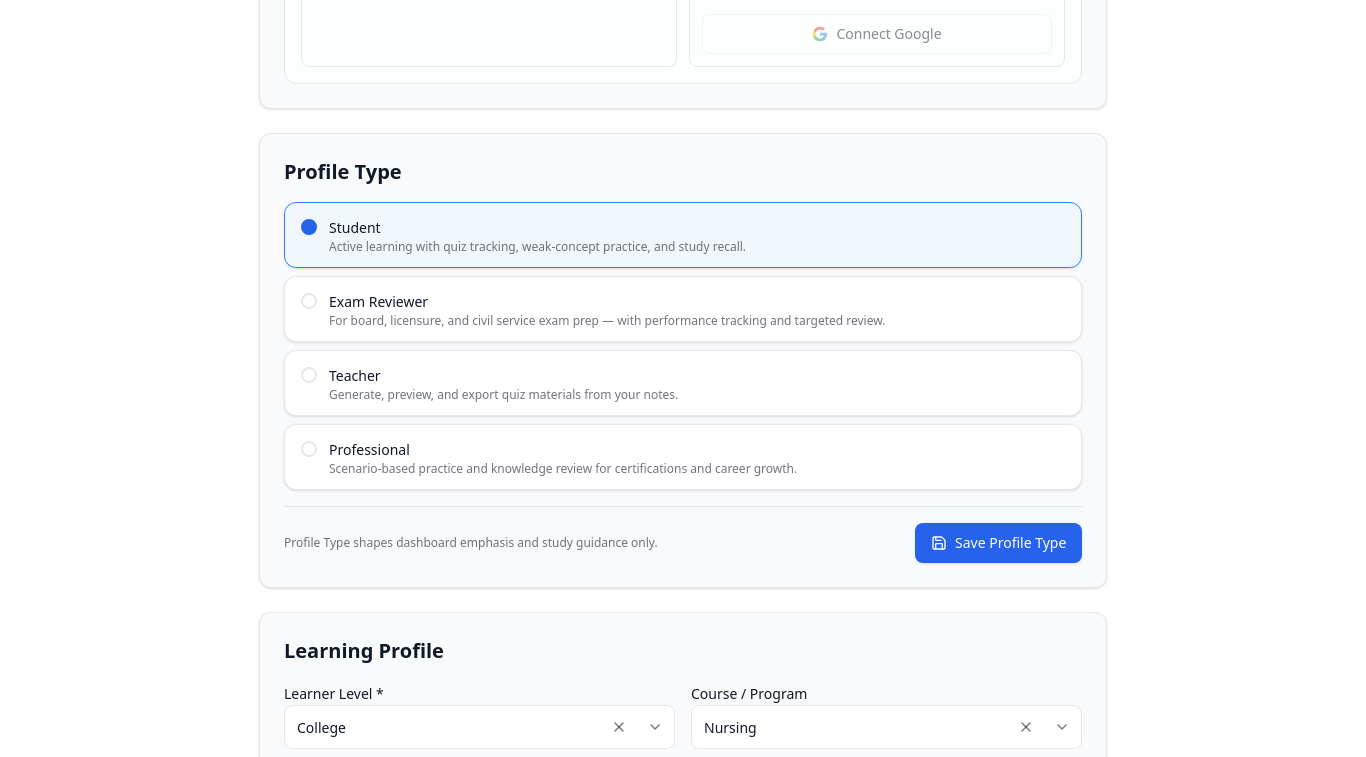
Profile page › saves profile type separately from identity fields
(page scrolled)
Click the button "Teacher Generate, preview, and export quiz materials from your notes.". click: (355, 376)
box: [284,350,1082,416]
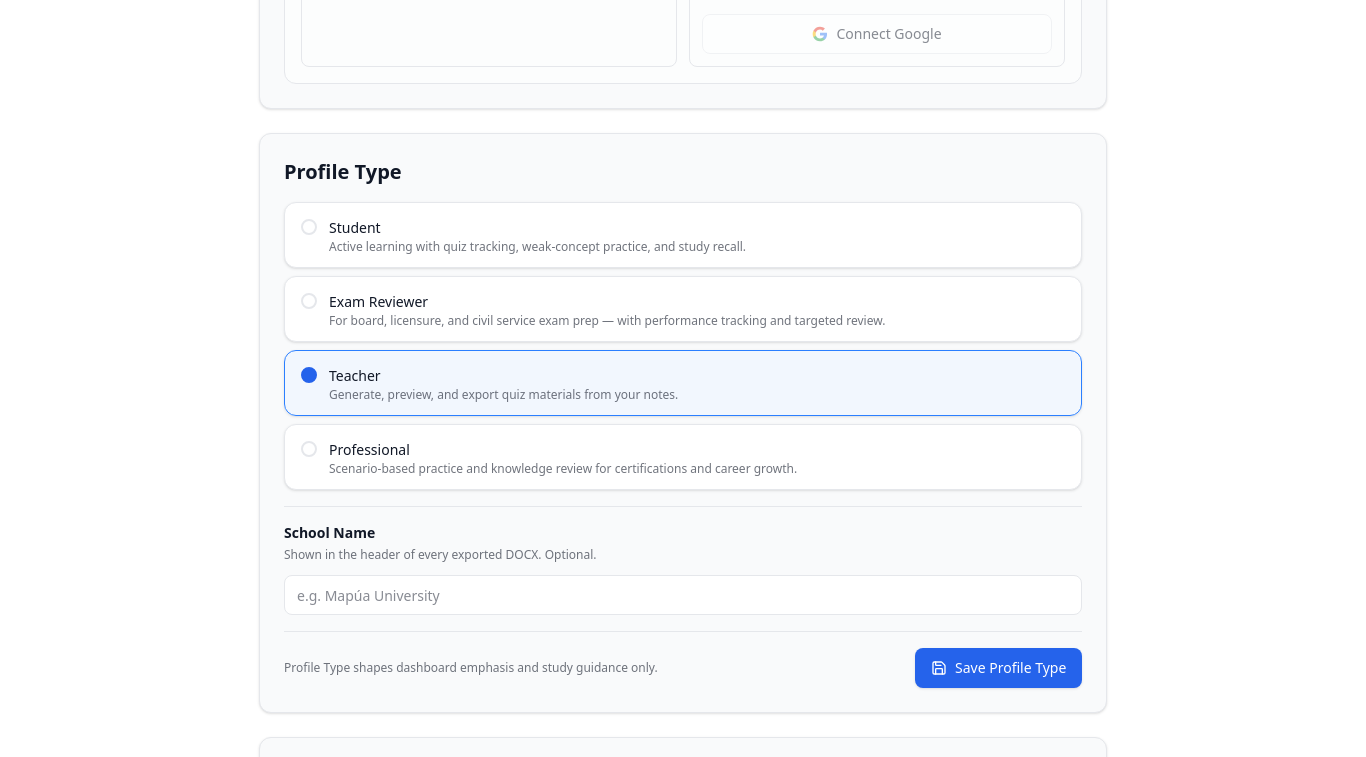
Click the button "Save Profile Type". click: (998, 668)
box: [915,648,1082,688]
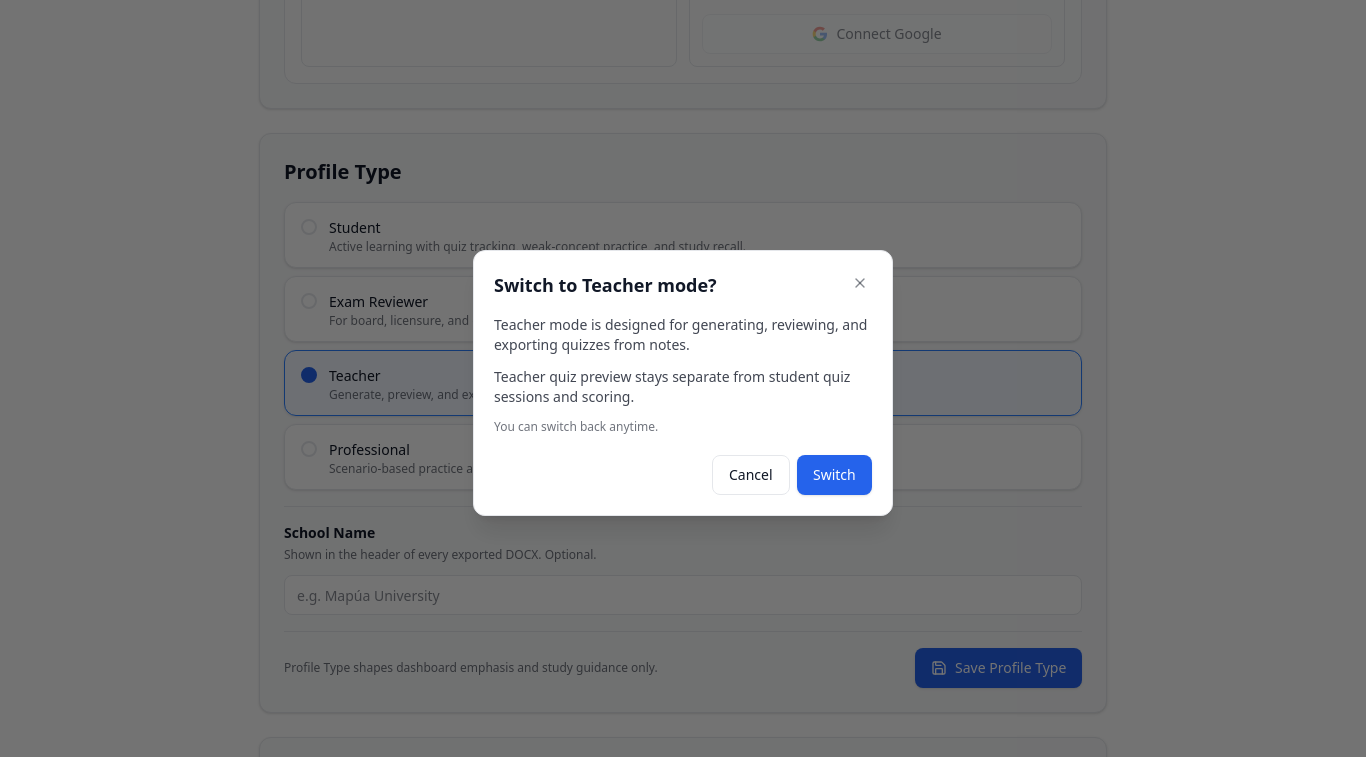
Click the button "Switch". click: (835, 475)
box: [797,455,872,495]
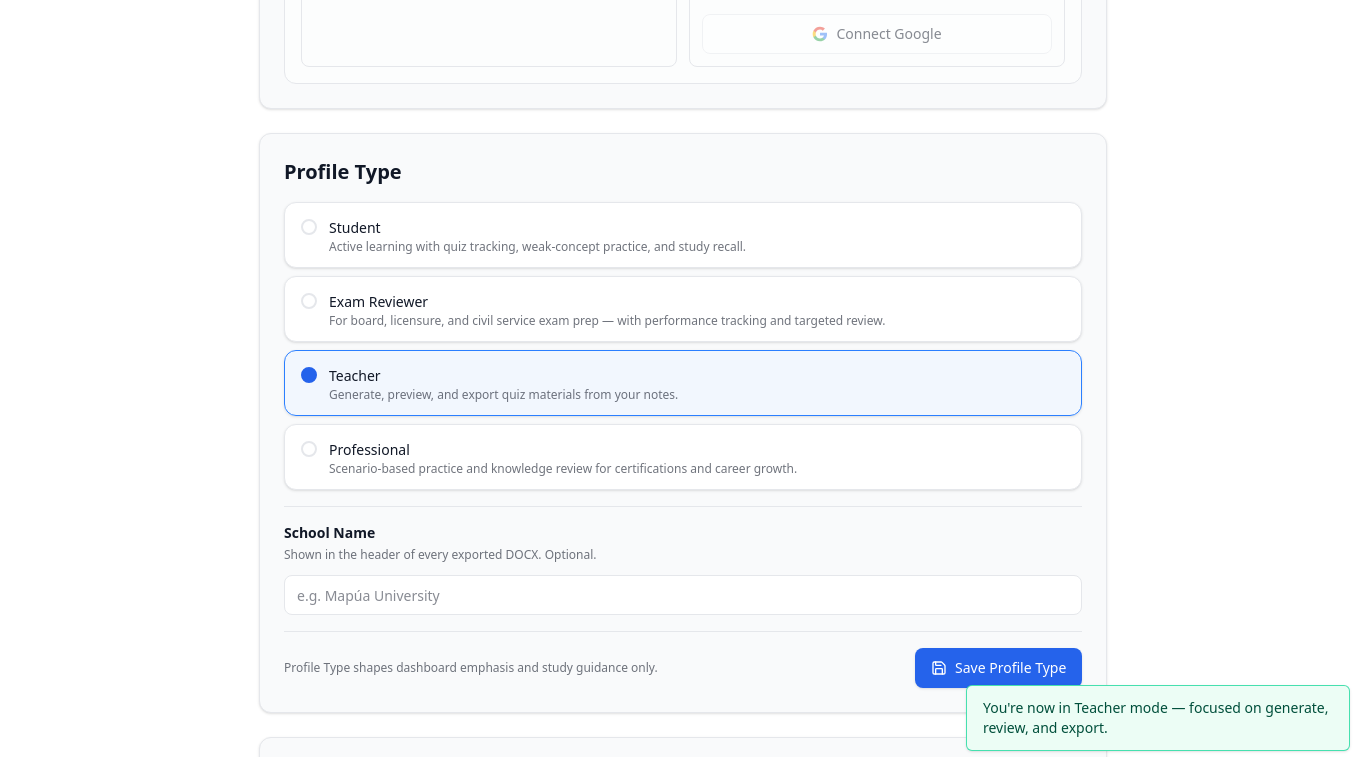
Result: the text "You're now in Teacher mode — focused on generate, review, and export." is shown at [966,685,1350,751]
